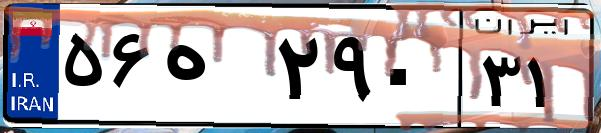0: (385, 28, 445, 110)
1: (525, 38, 570, 115)
2: (270, 28, 330, 110)
3: (475, 38, 525, 113)
5: (57, 26, 110, 100)
6: (110, 28, 158, 98)
9: (330, 28, 385, 110)
ه: (158, 20, 270, 120)
